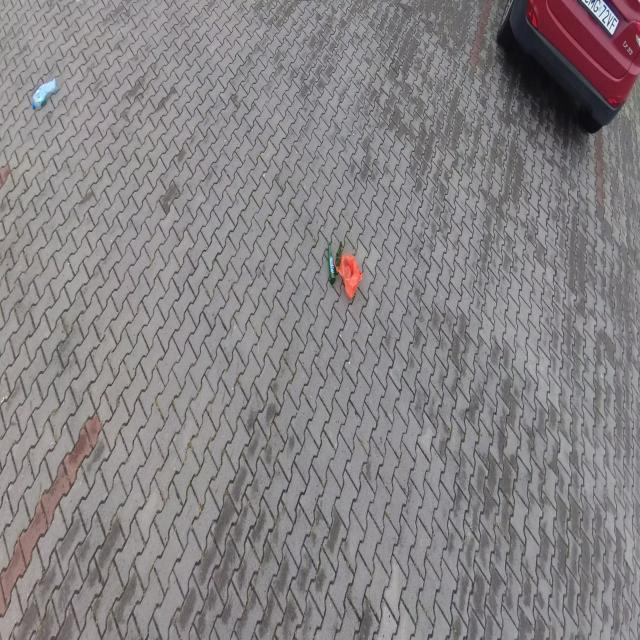rubbish: (334, 252, 363, 298), (31, 77, 59, 110), (327, 243, 335, 283), (334, 241, 342, 272)
